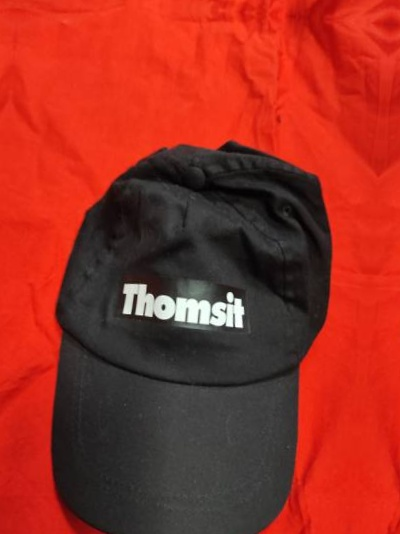Hat: (0, 84, 342, 534), (389, 117, 400, 534)
